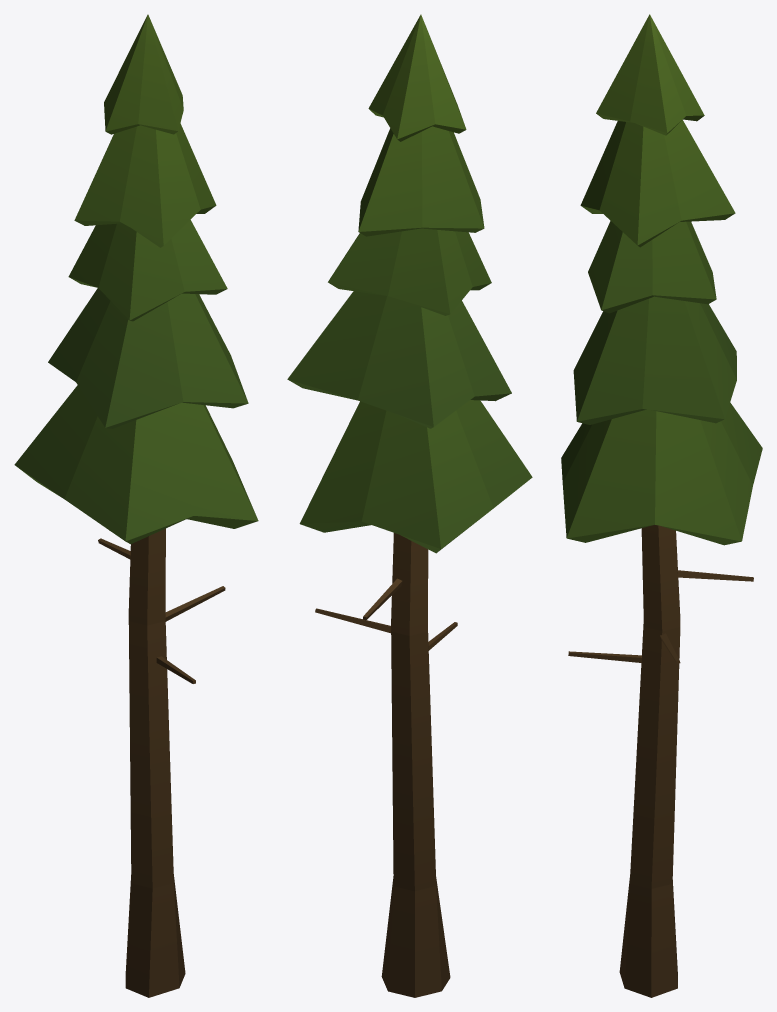
File: Tree_03.fbx
3 renders of one model, left to right at view 1: azimuth 30°, elevation 25°; view 2: azimuth 150°, elevation 25°; view 3: azimuth 270°, elevation 25°, orthographic.
Parts seen in each view (by area): view 1: Tree_03; view 2: Tree_03; view 3: Tree_03.
Boxes of the visible parts, <box> form: Tree_03: <box>14,14,258,997</box>; Tree_03: <box>287,14,532,997</box>; Tree_03: <box>561,14,762,997</box>.
Bounding box in the file's own units: 1.17 × 6.23 × 1.18.
